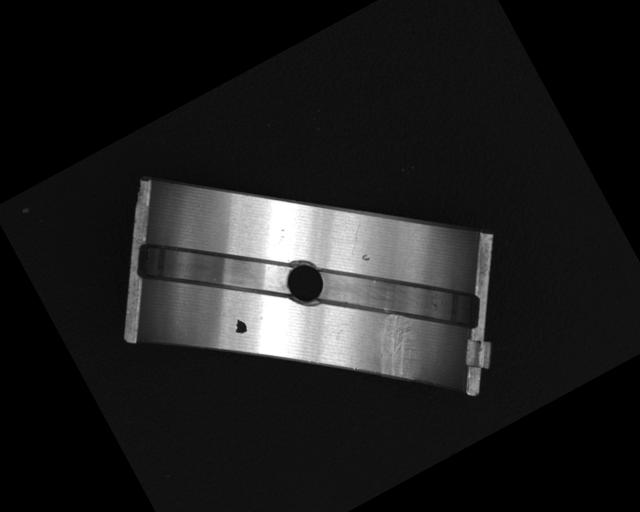blot: (230, 316, 250, 337)
bruise: (360, 252, 372, 263)
gap: (311, 216, 489, 386), (127, 188, 299, 350)
hole: (278, 255, 331, 309)
scratch: (356, 302, 436, 391)
